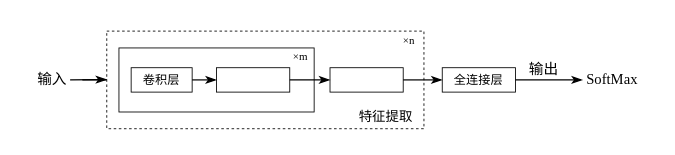
Some shapes in this 675 by 155 pixel diagram are drawn without their labels. Here are the shapes that lost their labels. From the top down, the box of each, then its label:
(216, 67, 290, 92): 激活函数
(329, 67, 403, 92): 池化层
